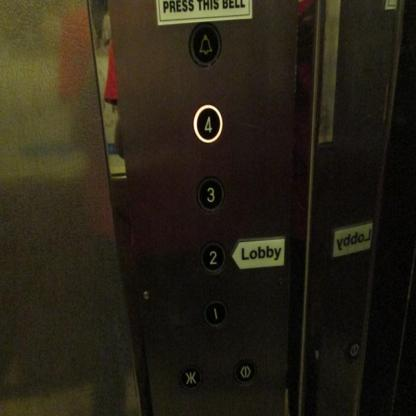1: (202, 298, 230, 330)
2: (198, 240, 226, 274)
3: (195, 176, 225, 212)
4: (192, 103, 224, 145)
alarm: (188, 22, 222, 69)
close: (178, 363, 202, 390)
open: (233, 356, 258, 386), (342, 336, 364, 363)
